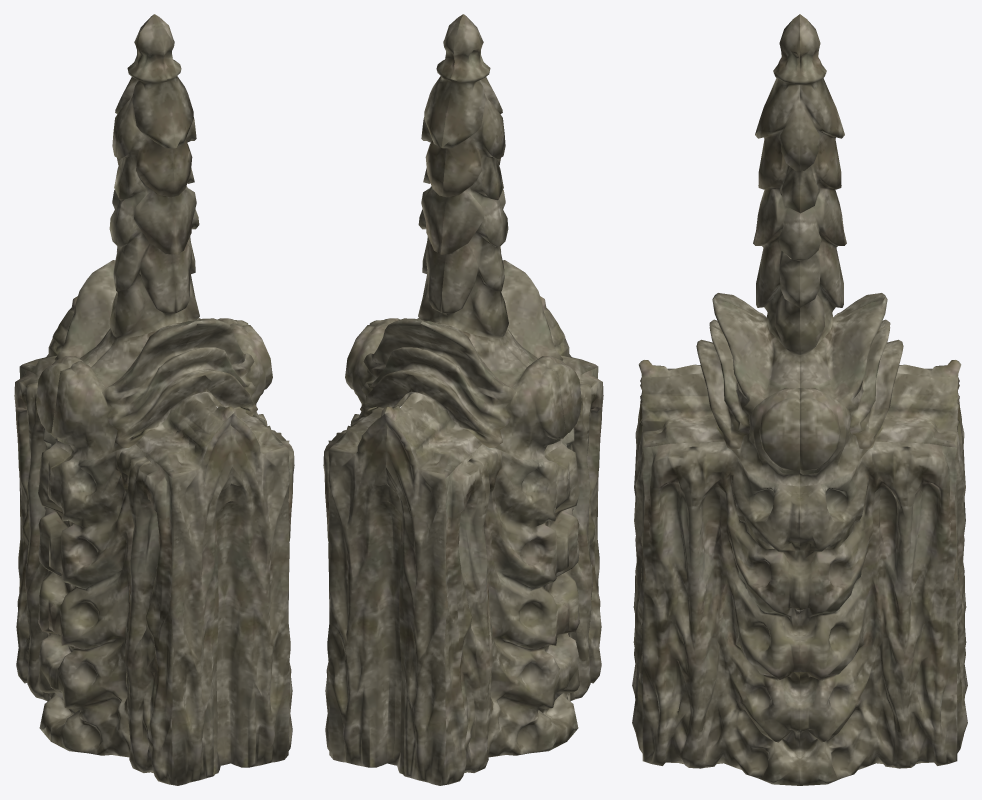
File: UW_Building_B_Center-transformed.glb
3 renders of one model, left to right at view 1: azimuth 30°, elevation 25°; view 2: azimuth 150°, elevation 25°; view 3: azimuth 270°, elevation 25°, orthographic. The views are drawn at different scales.
Parts seen in each view (by area): view 1: UW_Building_B_Center; view 2: UW_Building_B_Center; view 3: UW_Building_B_Center.
Part boxes in pixels (<box>): UW_Building_B_Center: <box>14,14,294,785</box>; UW_Building_B_Center: <box>323,14,603,785</box>; UW_Building_B_Center: <box>632,14,967,785</box>.
Size of the model in its own units: 33.61 by 108 by 45.57.
Materials: 1 (1 with a texture image).
